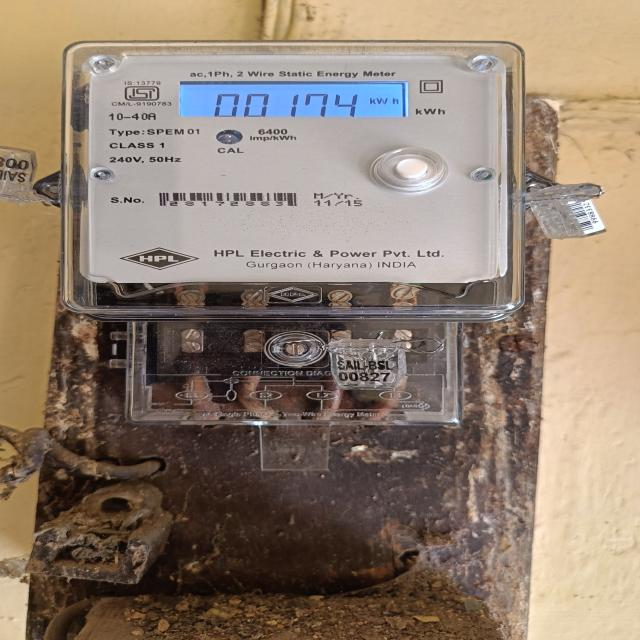display: (168, 80, 405, 120)
